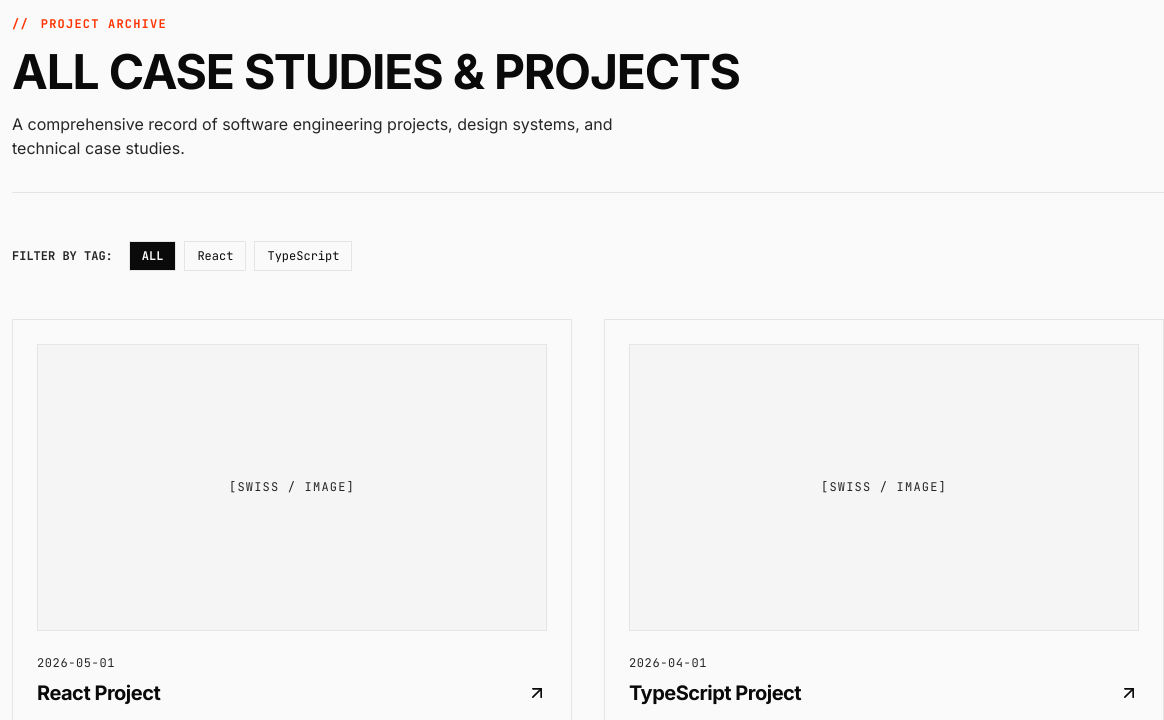
it: Projects page component › renders all projects and filters by selected tag
Check: the text "React Project" is shown, box [37,679,160,707]
Check: the text "TypeScript Project" is shown, box [629,679,801,707]
// Click 'React' tag filter
Click the button "React". click: (215, 256)
box: [184,241,246,271]
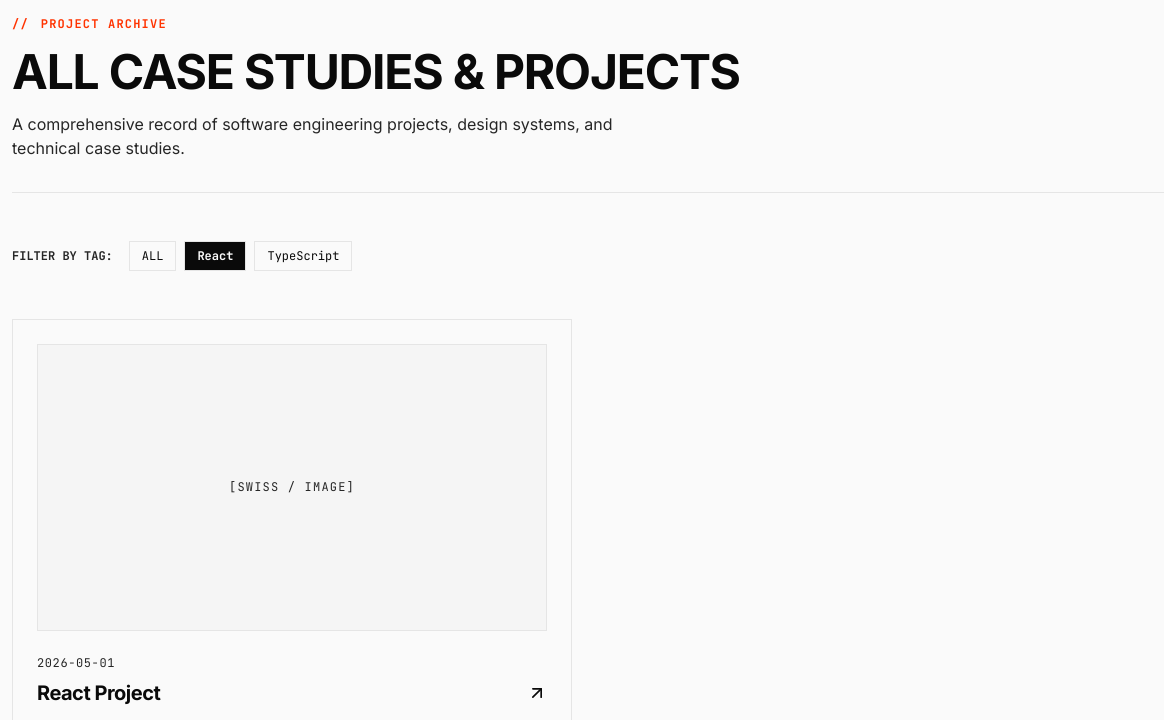
Check: the text "React Project" is shown, box [37,679,160,707]
Check: the link "TypeScript Project" is gone
